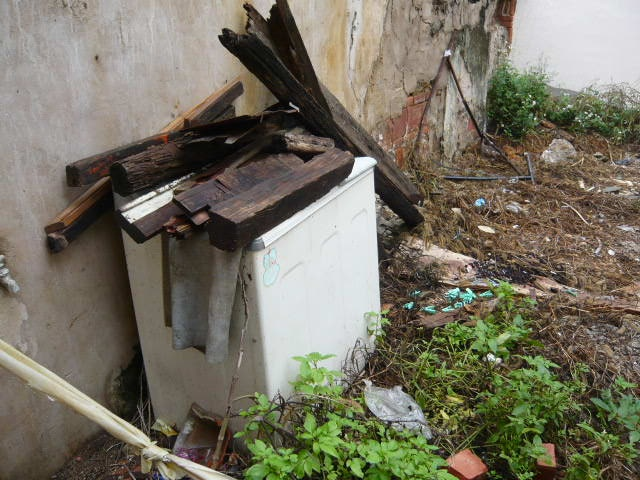washing_machine: (110, 146, 388, 431)
